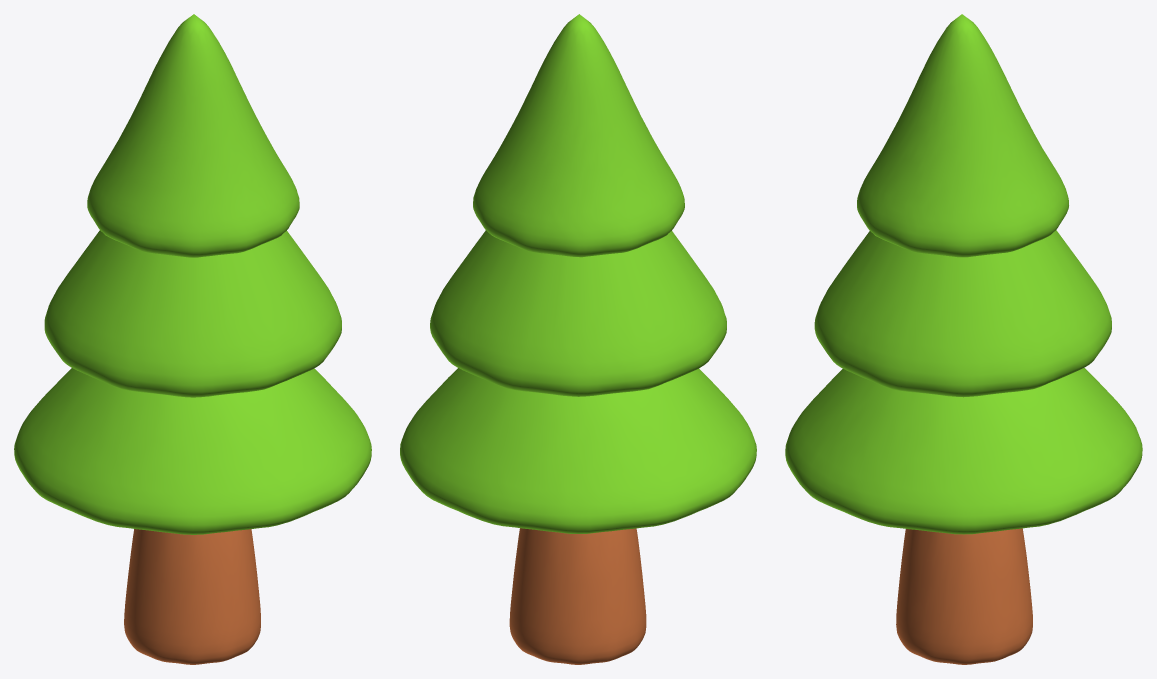
File: tree.glb
3 views of the same model, side by side, from view 1: azimuth 30°, elevation 25°; view 2: azimuth 150°, elevation 25°; view 3: azimuth 270°, elevation 25° (orthographic).
Visible parts, largest first — view 1: Cone; view 2: Cone; view 3: Cone.
Boxes of the visible parts, x1,y1,x2,y2 form: Cone: (14, 14, 371, 664); Cone: (400, 14, 756, 664); Cone: (785, 14, 1142, 664).
Bounding box in the file's own units: 1.62 × 3.16 × 1.62.
